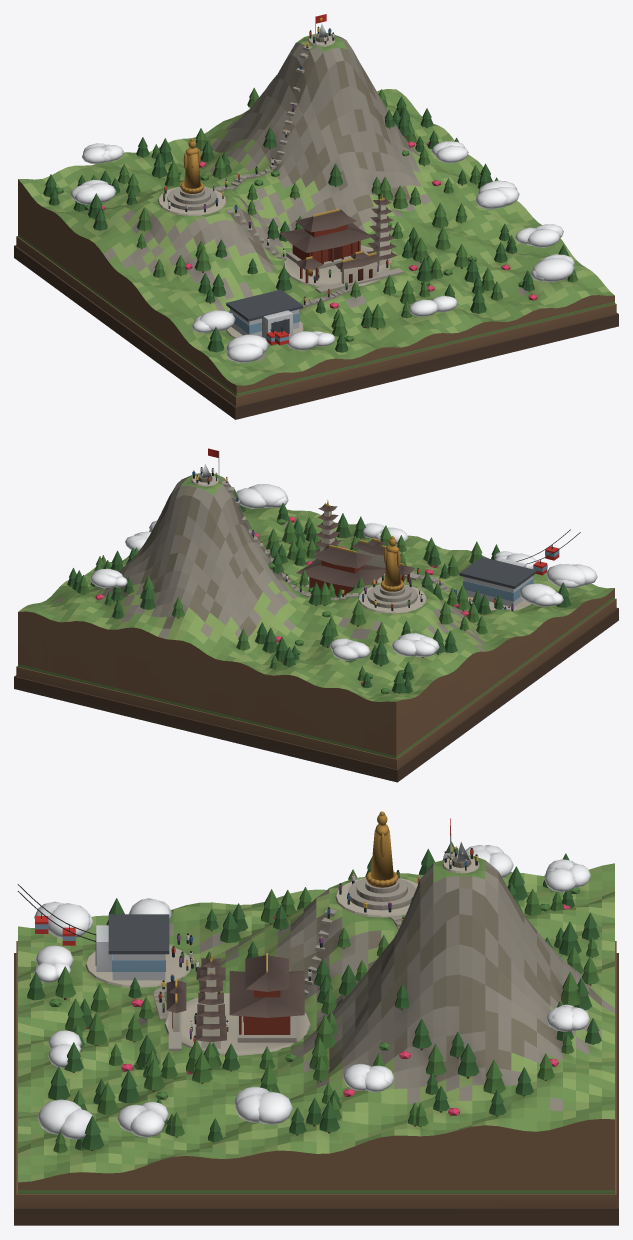
File: dinh-fansipan.glb
3 views of the same model, one above another, from view 1: azimuth 30°, elevation 25°; view 2: azimuth 150°, elevation 25°; view 3: azimuth 270°, elevation 25° (orthographic). The views are drawn at different scales.
Parts seen in each view (by area): view 1: FP_b_FP_bronze; view 2: FP_b_FP_bronze; view 3: FP_b_FP_bronze.
Part boxes in pixels (x1,y1,x2,y2): FP_b_FP_bronze: (14, 14, 618, 419); FP_b_FP_bronze: (14, 448, 618, 782); FP_b_FP_bronze: (14, 811, 618, 1225).
Bounding box in the file's own units: 92 × 52.29 × 92.
Materials: 1 (1 with a texture image).
